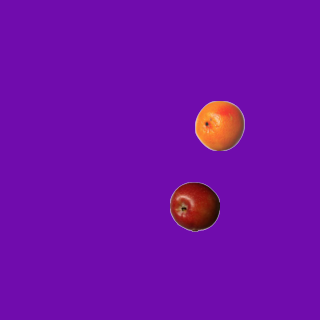Apple Braeburn: (169, 181, 219, 231)
Grapefruit Pink: (194, 100, 244, 150)
